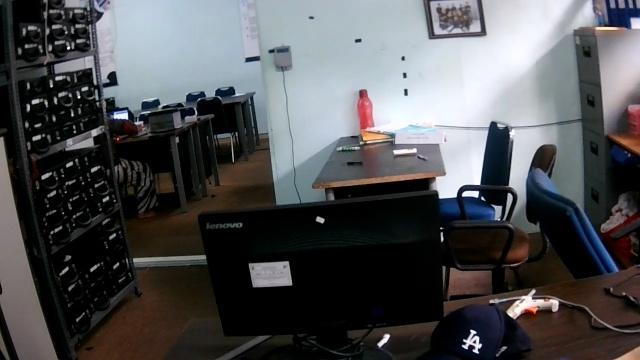AIO PC-Monitor-TV: (196, 188, 445, 359)
Filing Cabinet: (572, 27, 610, 227)
Kursi: (440, 144, 557, 272), (437, 120, 514, 223)
Meja: (309, 129, 446, 200)
